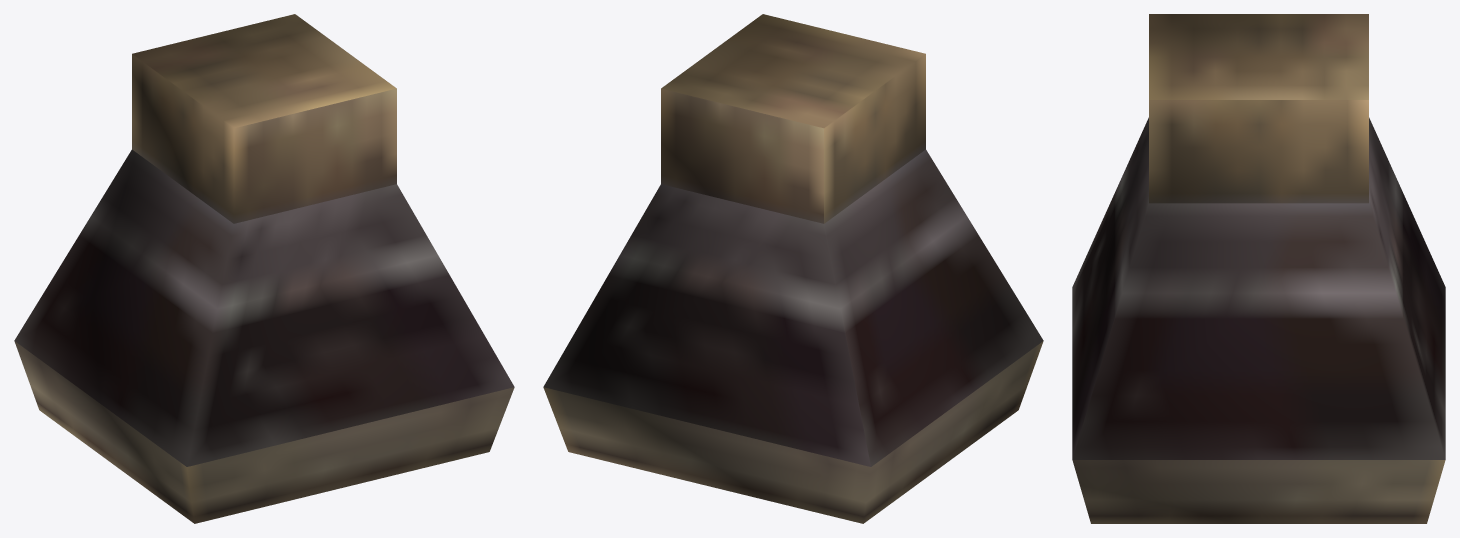
File: OZ_21_ta_ink01A.glb
The picture shows the model from 3 angles, left to right: view 1: azimuth 30°, elevation 25°; view 2: azimuth 150°, elevation 25°; view 3: azimuth 270°, elevation 25°; orthographic projection. The views are drawn at different scales.
Visible parts, largest first — view 1: OM_21_ta_ink01A; view 2: OM_21_ta_ink01A; view 3: OM_21_ta_ink01A.
Boxes of the visible parts, x1,y1,x2,y2 form: OM_21_ta_ink01A: (14, 14, 514, 523); OM_21_ta_ink01A: (543, 14, 1043, 523); OM_21_ta_ink01A: (1072, 14, 1445, 523).
Size of the model in its own units: 0.11 by 0.1154 by 0.1003.
1 material, 1 textured.
